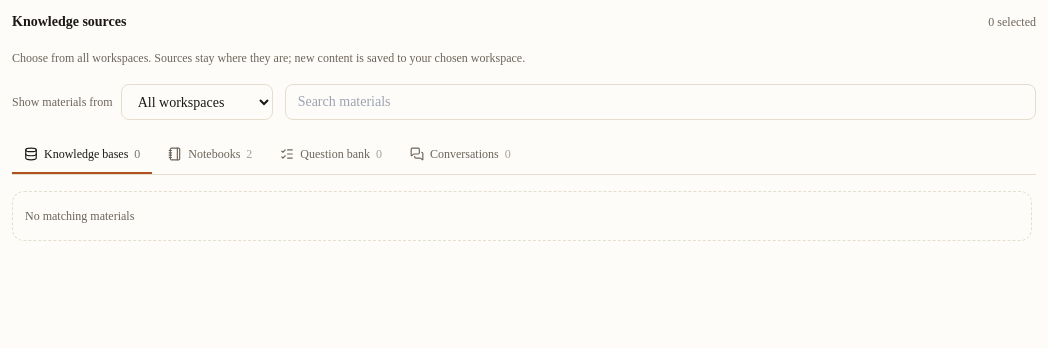
Test: shows all origins and preserves chosen sources while filtering and searching
Expected: the dropdown named "Filter by workspace" shows "All workspaces", [121, 84, 273, 120]
Click the tab "Notebooks 2" at (210, 155), box [156, 136, 264, 174]
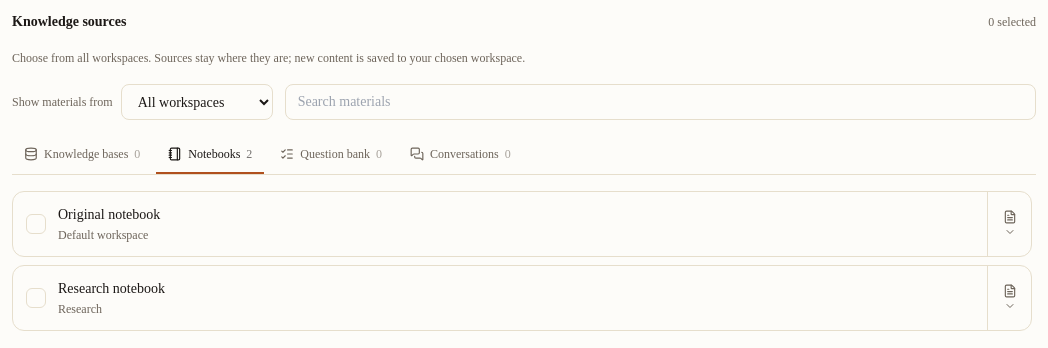
Click the button "Original notebook Default workspace" at (109, 214), box [13, 192, 987, 256]
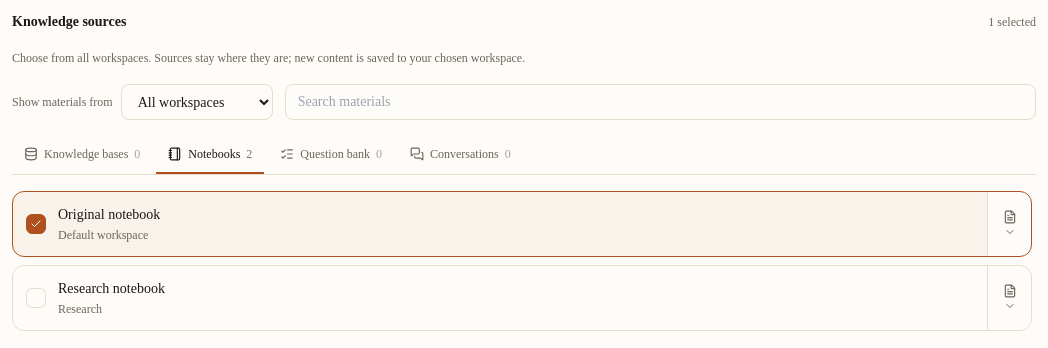
Select "Research" in the dropdown named "Filter by workspace" at (197, 102), box [121, 84, 273, 120]
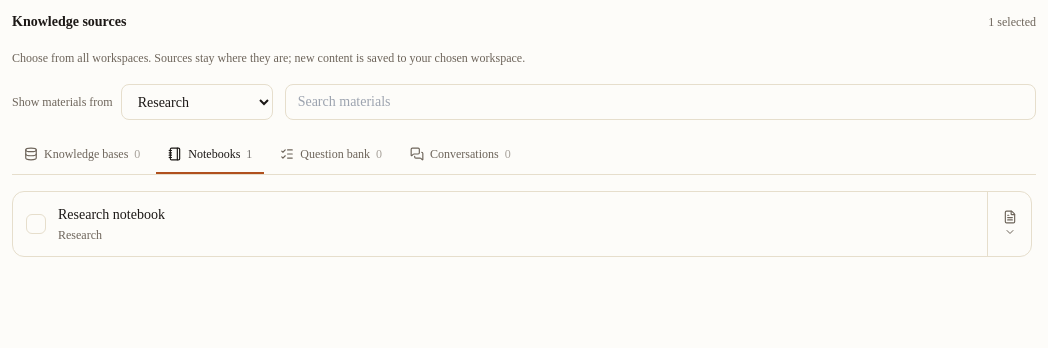
Expected: the button "Original notebook" is gone
Click the button "Research notebook Research" at (111, 214), box [13, 192, 987, 256]
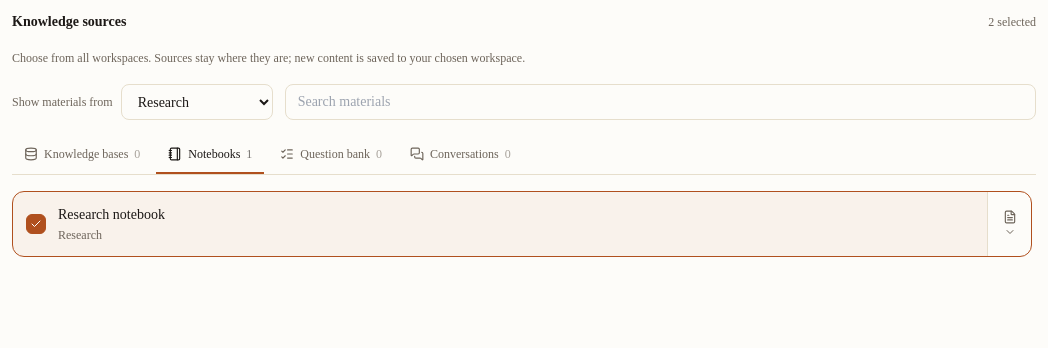
Expected: the text "2 selected" is shown, [988, 14, 1036, 30]
Select "All workspaces" in the dropdown named "Filter by workspace" at (197, 102), box [121, 84, 273, 120]
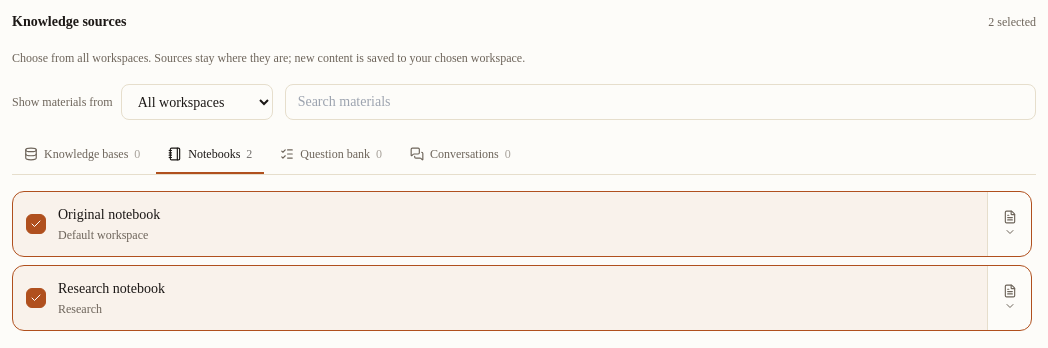
Expected: the button "Original notebook Default workspace" is pressed, [13, 192, 987, 256]
Type "Original" into the search field labelled "Search materials" at (660, 102), box [285, 84, 1036, 120]
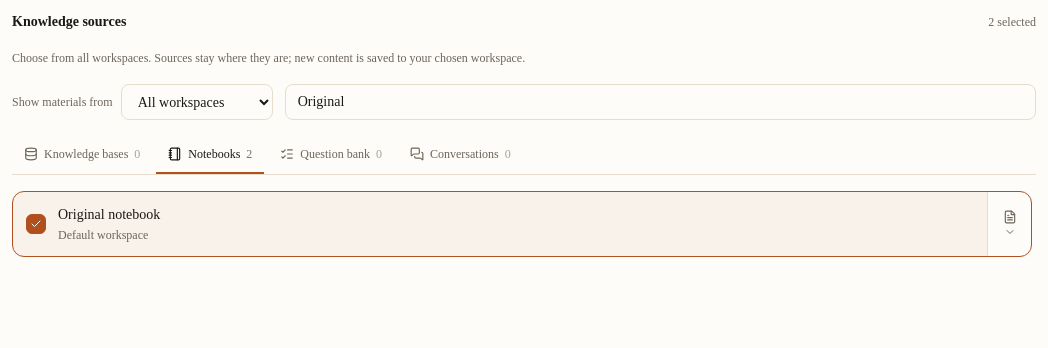
Expected: the button "Research notebook" is gone
